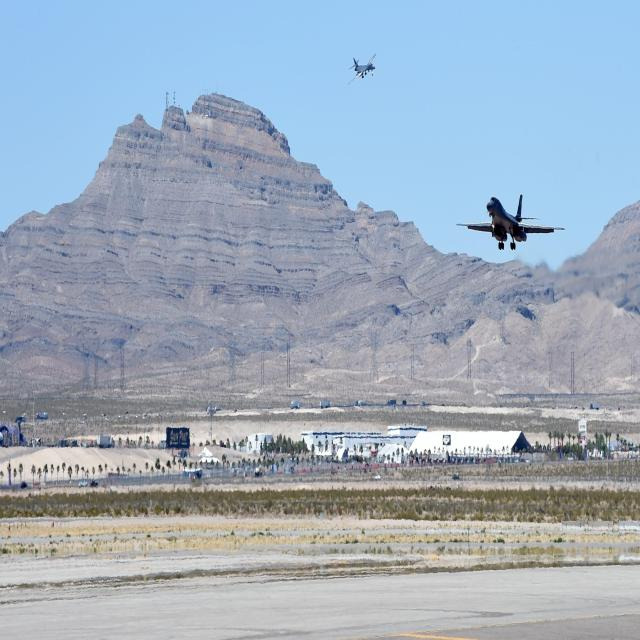MIL_Plane: (456, 194, 565, 250), (347, 53, 376, 86)
